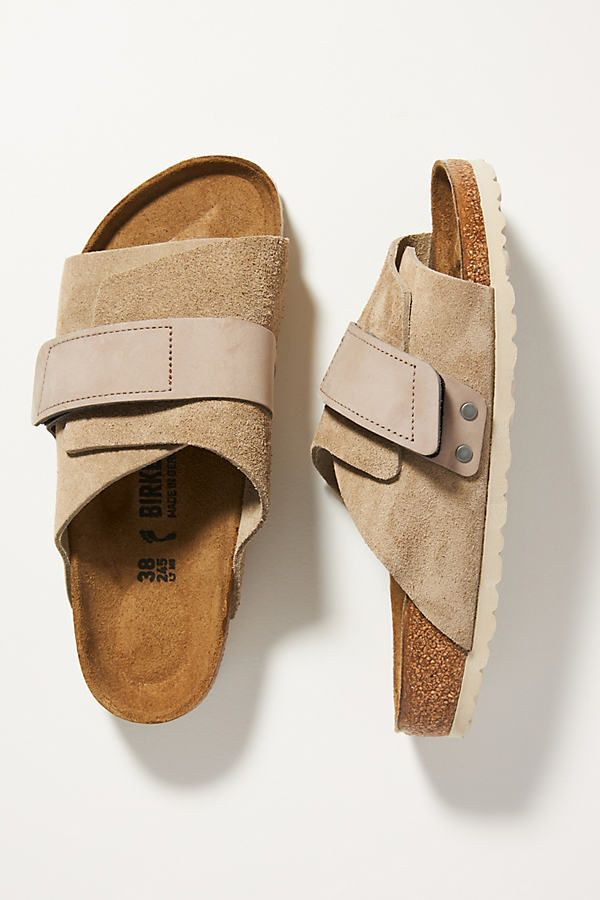gamuza: (33, 157, 487, 720)
